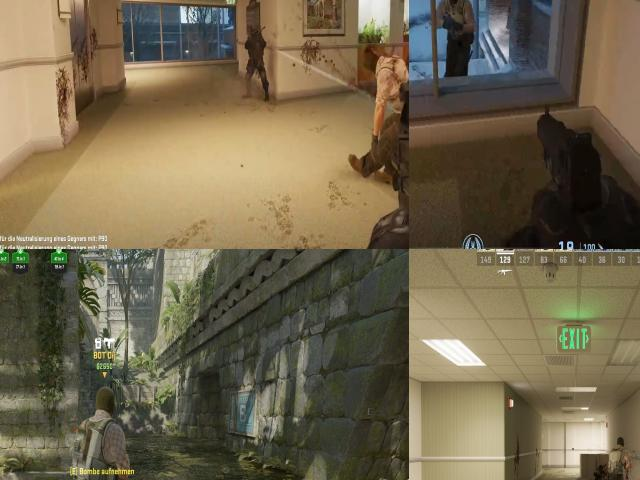Bomb: (70, 425, 94, 468)
CT: (244, 22, 269, 72)
CT-Head: (246, 24, 264, 42)
Dead: (358, 38, 406, 167), (594, 462, 608, 480)
T: (69, 385, 135, 480), (439, 0, 472, 55), (609, 435, 629, 480)
T-Head: (91, 385, 119, 418), (616, 437, 626, 448), (445, 0, 462, 6)
